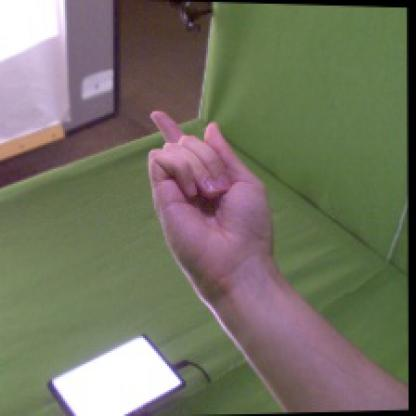Hand: (146, 111, 272, 293)
